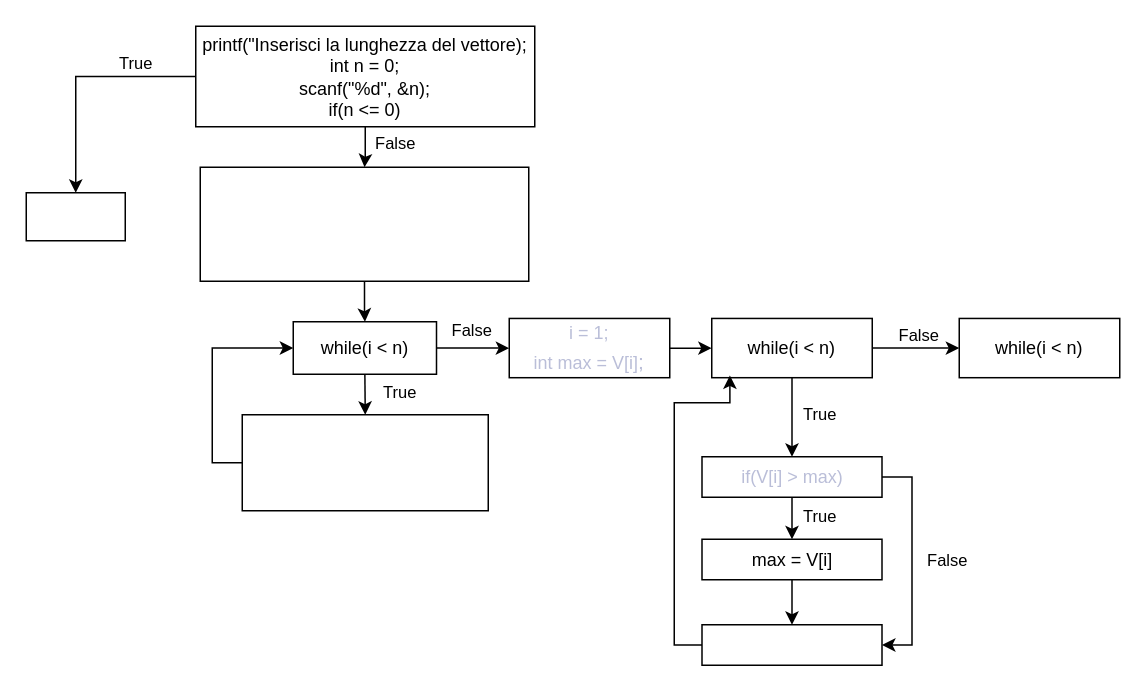
Image size: 1146x692. Some labels were removed from this diagram. The shapes that lost their labels are listed below. From the top down, each one's centre as x and y in pixels, then its label:
[75,216]: exit(1)
[364,223]: int V[n]; printf("Inserisci %d numeri", n); int i = 0; int input;
[364,462]: scanf("%d", &input); V[i] = input; i++;
[791,644]: i++;
